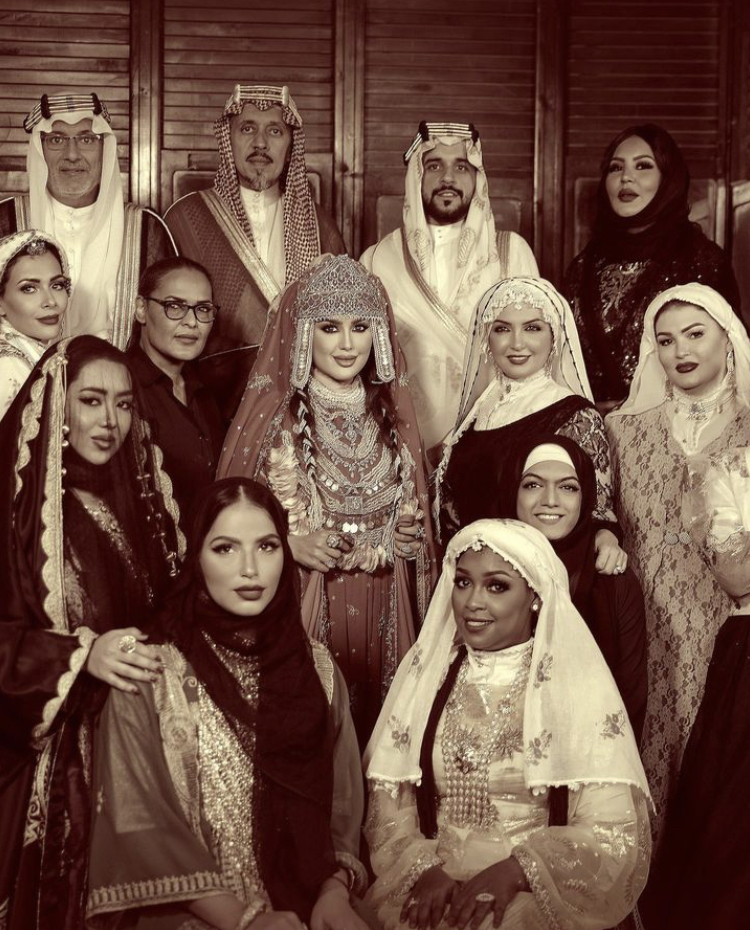Saudi_Founding_Day: (353, 512, 664, 929), (1, 330, 191, 929), (207, 243, 446, 691), (347, 113, 601, 460), (615, 277, 746, 874), (421, 266, 632, 575), (163, 77, 362, 367), (2, 87, 190, 356), (1, 223, 76, 430)
